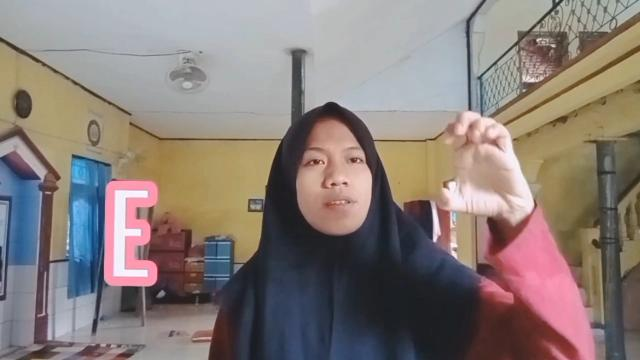E: (436, 108, 532, 221)
